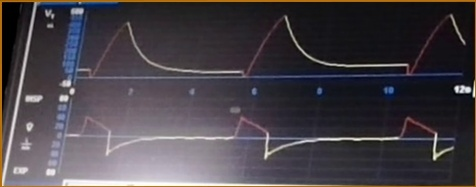Flow: (69, 113, 456, 171)
Leakage Volume: (78, 13, 466, 83)
